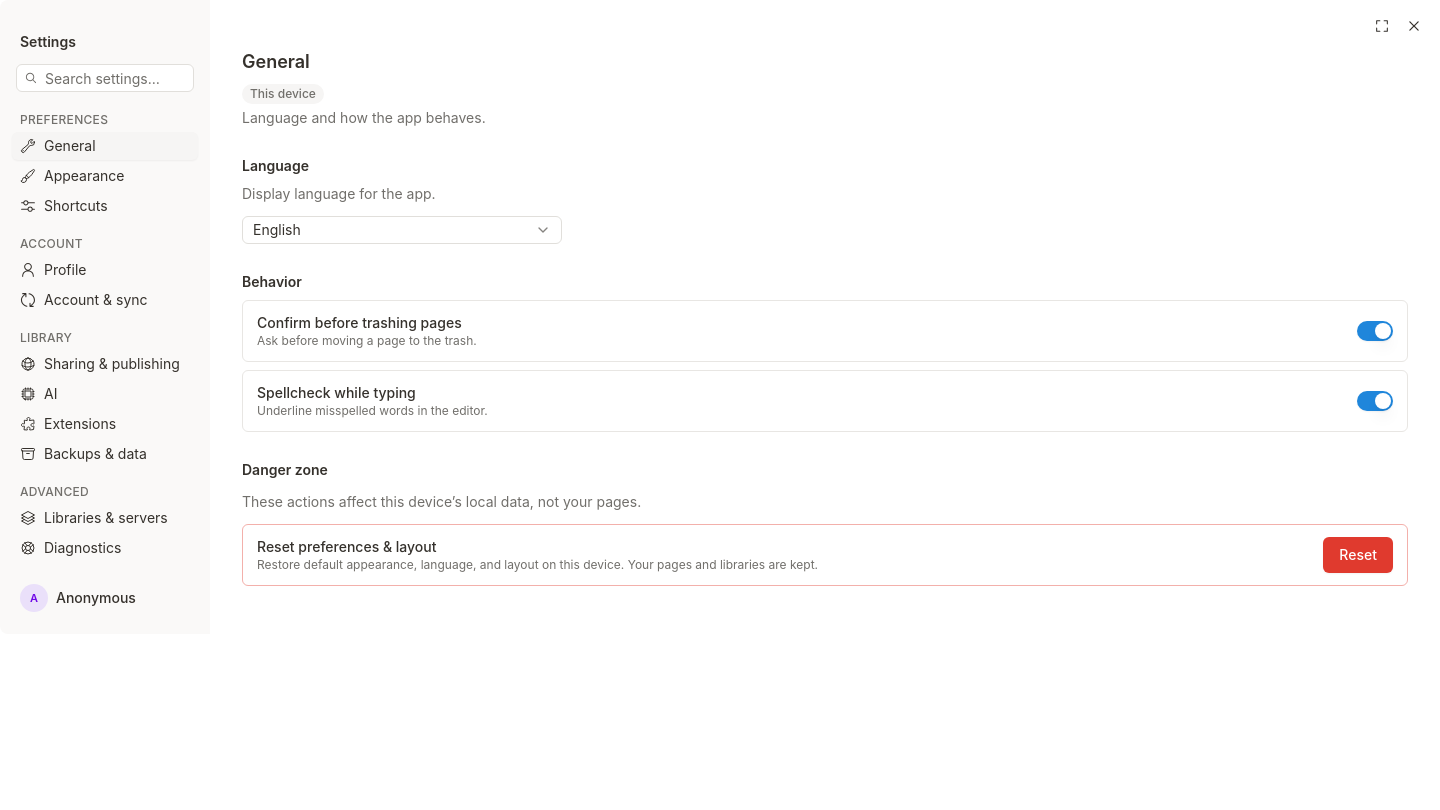
Test: SettingsPanel › replaces the rail with matching setting rows while searching
Check: the text "Preferences" is shown, box [20,112,108,127]
Type "sharing" into the dropdown with placeholder "Search settings…" at (105, 78), box [16,64,194,92]
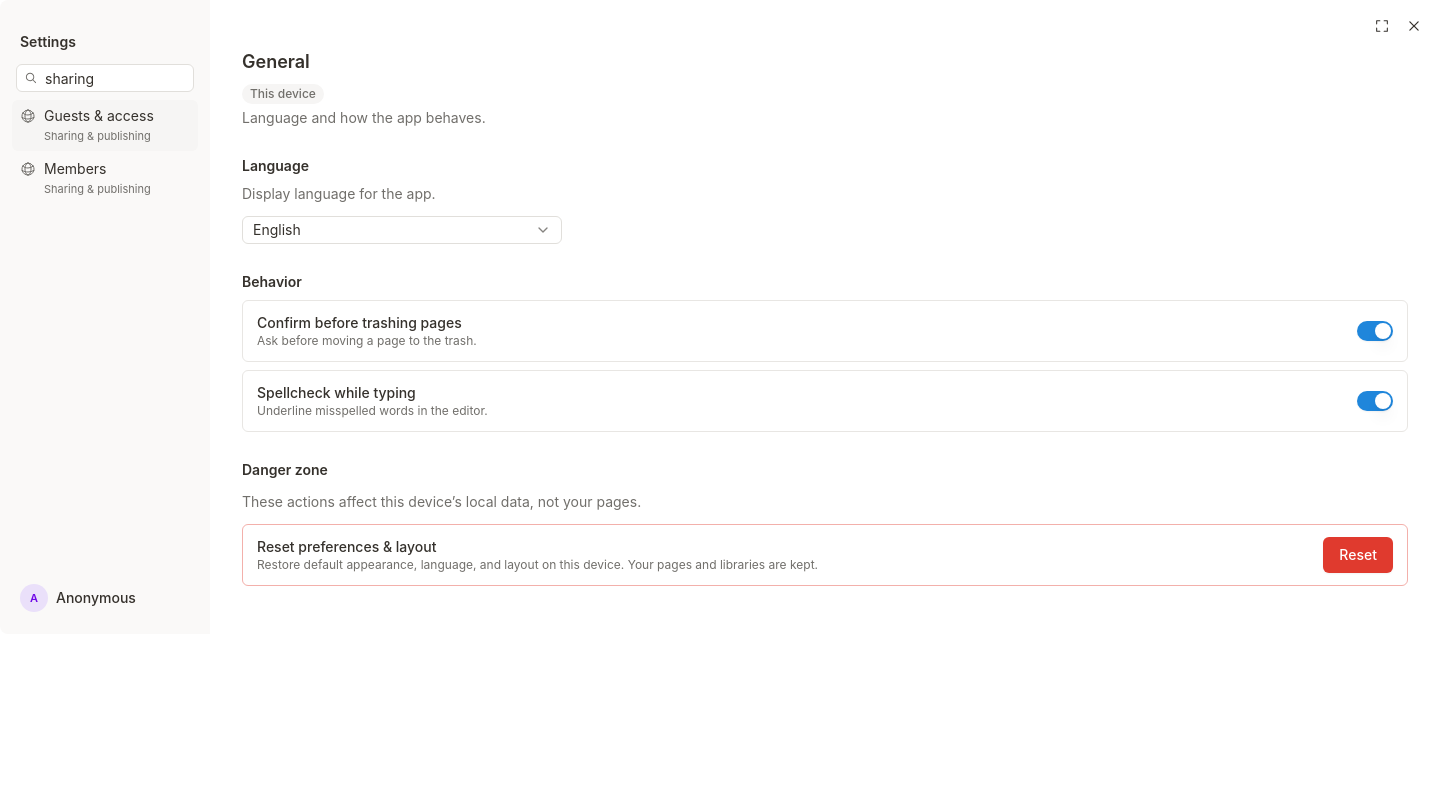
Check: the option "Guests & access Sharing & publishing" is shown, box [12,100,198,150]
